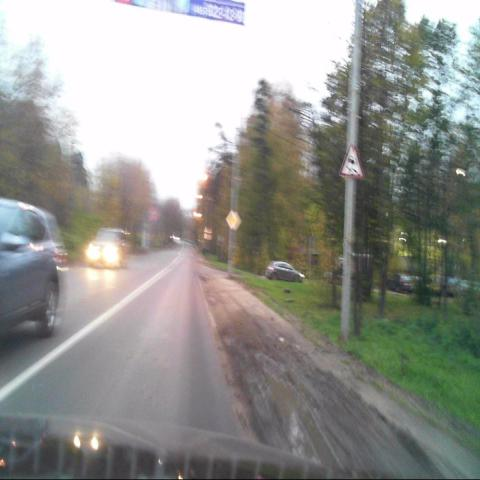1_15: (339, 144, 361, 180)
